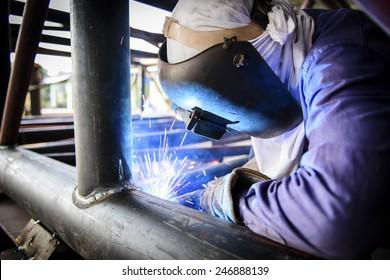gloves: (189, 167, 275, 223)
